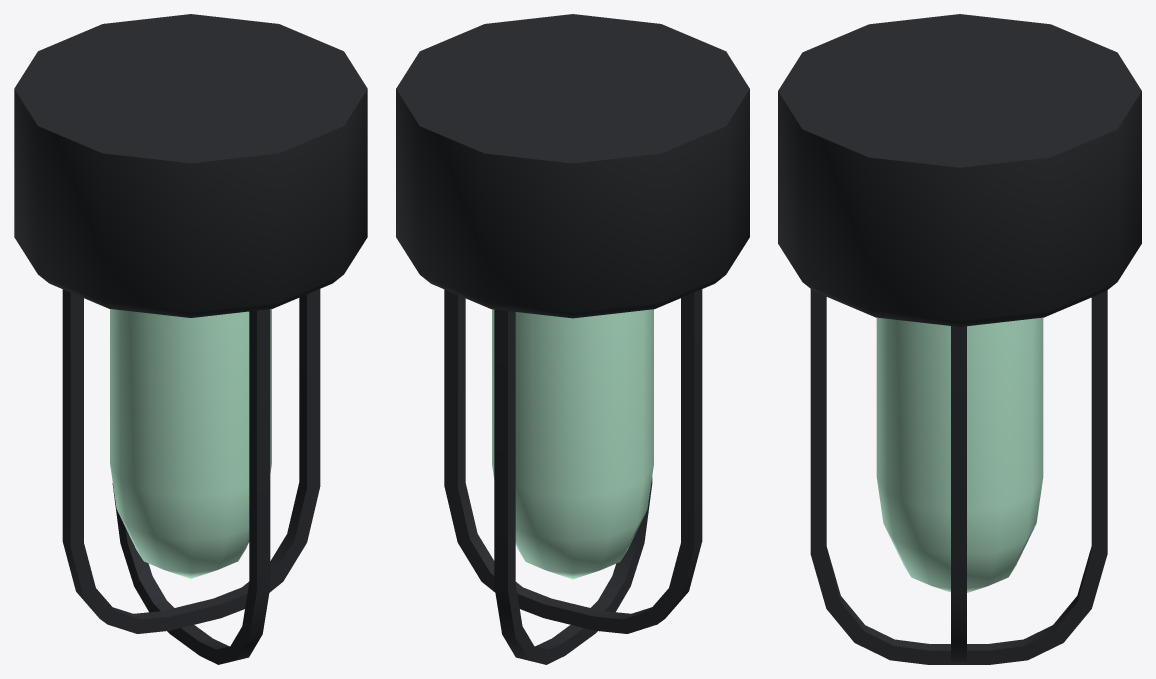
The model's file is lamp02.FBX.
3 views of the same model, side by side, from view 1: azimuth 30°, elevation 25°; view 2: azimuth 150°, elevation 25°; view 3: azimuth 270°, elevation 25° (orthographic). The views are drawn at different scales.
Parts seen in each view (by area): view 1: Lamp02; view 2: Lamp02; view 3: Lamp02.
Boxes of the visible parts, x1,y1,x2,y2 form: Lamp02: [14, 14, 367, 664]; Lamp02: [396, 14, 749, 664]; Lamp02: [778, 14, 1141, 664].
Bounding box in the file's own units: 15.46 × 26.76 × 15.46.
